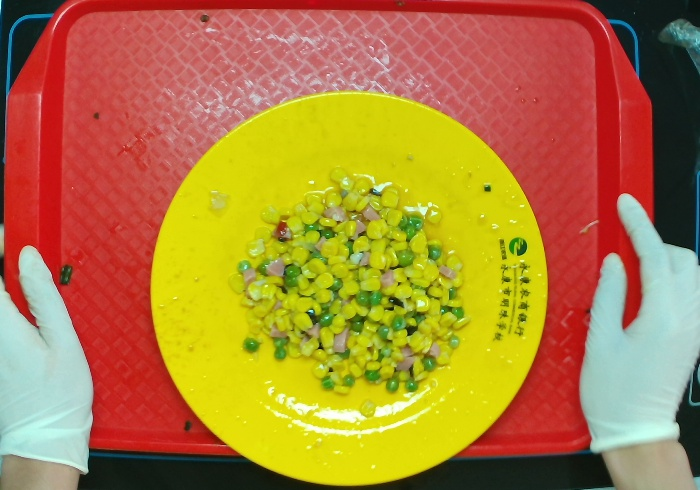YKMZ-Huang_Se_Mian_Pan: (147, 90, 551, 490)
